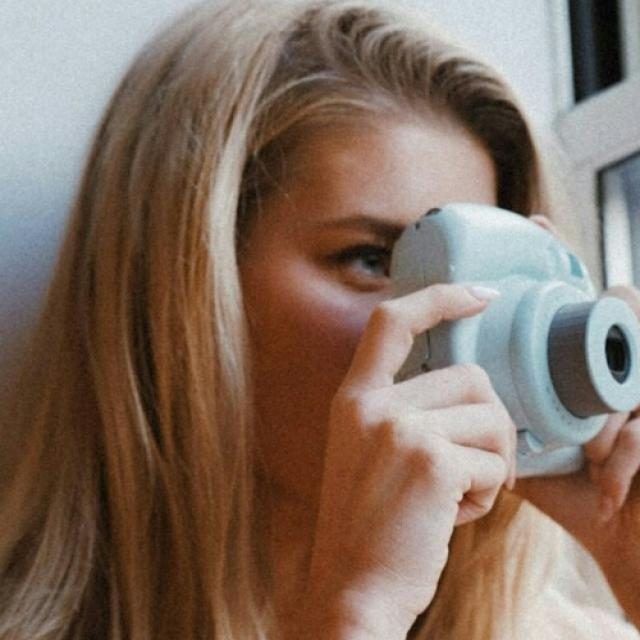front: (306, 180, 564, 470)
